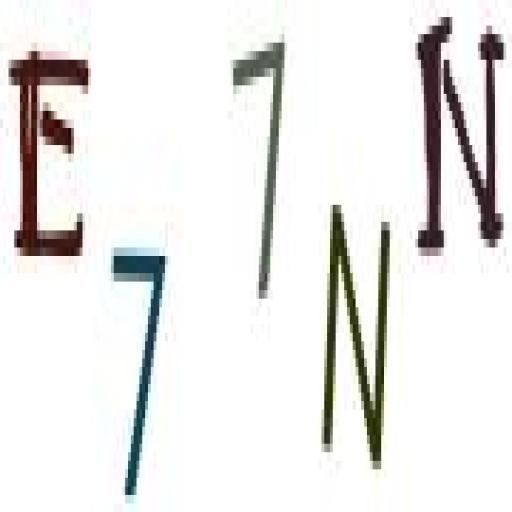7: (107, 231, 167, 510), (229, 39, 288, 305)
E: (5, 37, 95, 274)
N: (414, 12, 507, 264), (315, 190, 394, 482)
